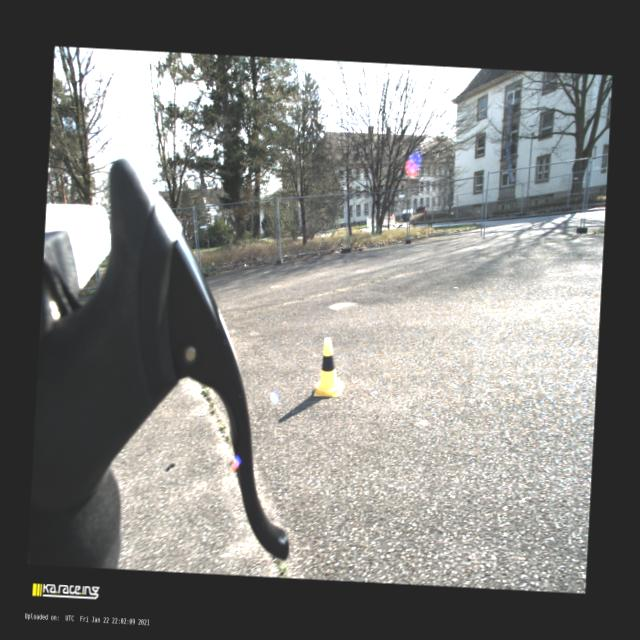yellow_cone: (314, 337, 346, 397)
